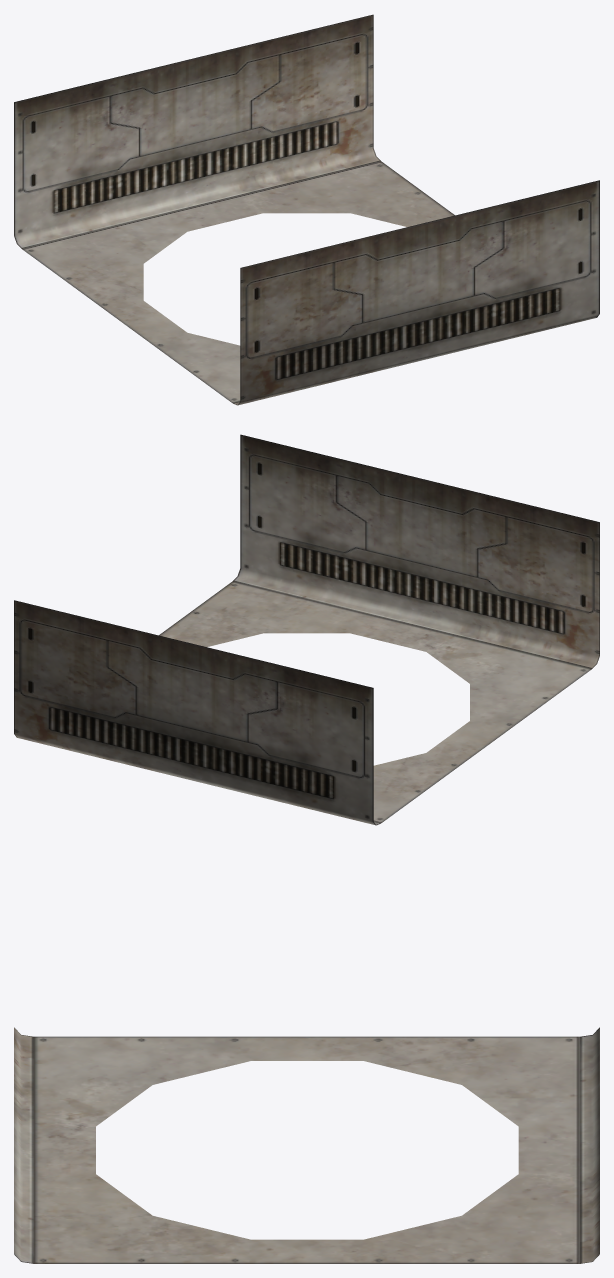
File: lab_ceiling_box_fan_inset.dae
3 views of the same model, one above another, from view 1: azimuth 30°, elevation 25°; view 2: azimuth 150°, elevation 25°; view 3: azimuth 270°, elevation 25° (orthographic). The views are drawn at different scales.
Visible parts, largest first — view 1: lab_ceiling_box_fan; view 2: lab_ceiling_box_fan; view 3: lab_ceiling_box_fan.
Boxes of the visible parts, x1,y1,x2,y2 form: lab_ceiling_box_fan: (14,14,599,405); lab_ceiling_box_fan: (14,434,599,825); lab_ceiling_box_fan: (14,1027,599,1263).
Bounding box in the file's own units: 2 × 0.75 × 2.18.
